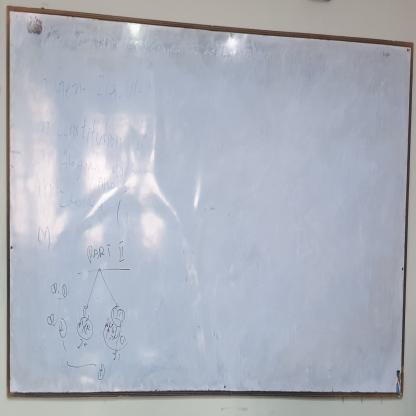Handwritten text: (51, 60, 145, 111), (56, 147, 126, 193), (53, 115, 124, 154), (54, 179, 107, 218)
Whiteboard: (0, 5, 413, 407)
